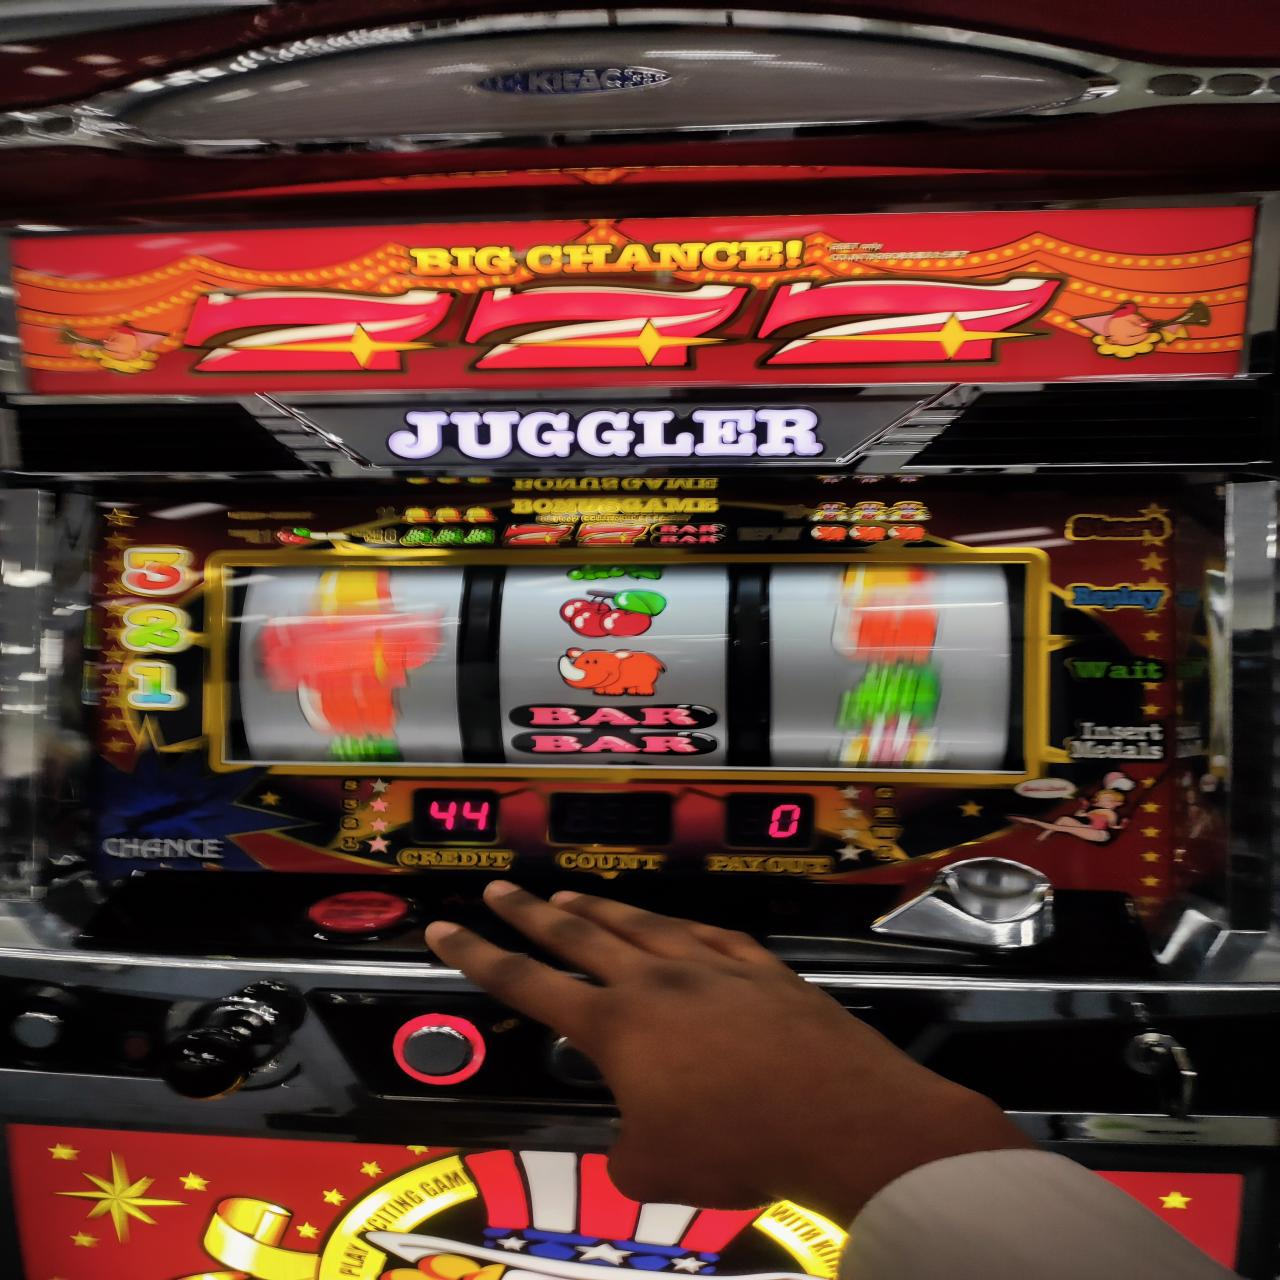8: (552, 645, 670, 696)
bar: (497, 703, 726, 755)
cherry: (553, 590, 668, 640)
rhino: (224, 559, 1033, 775)
